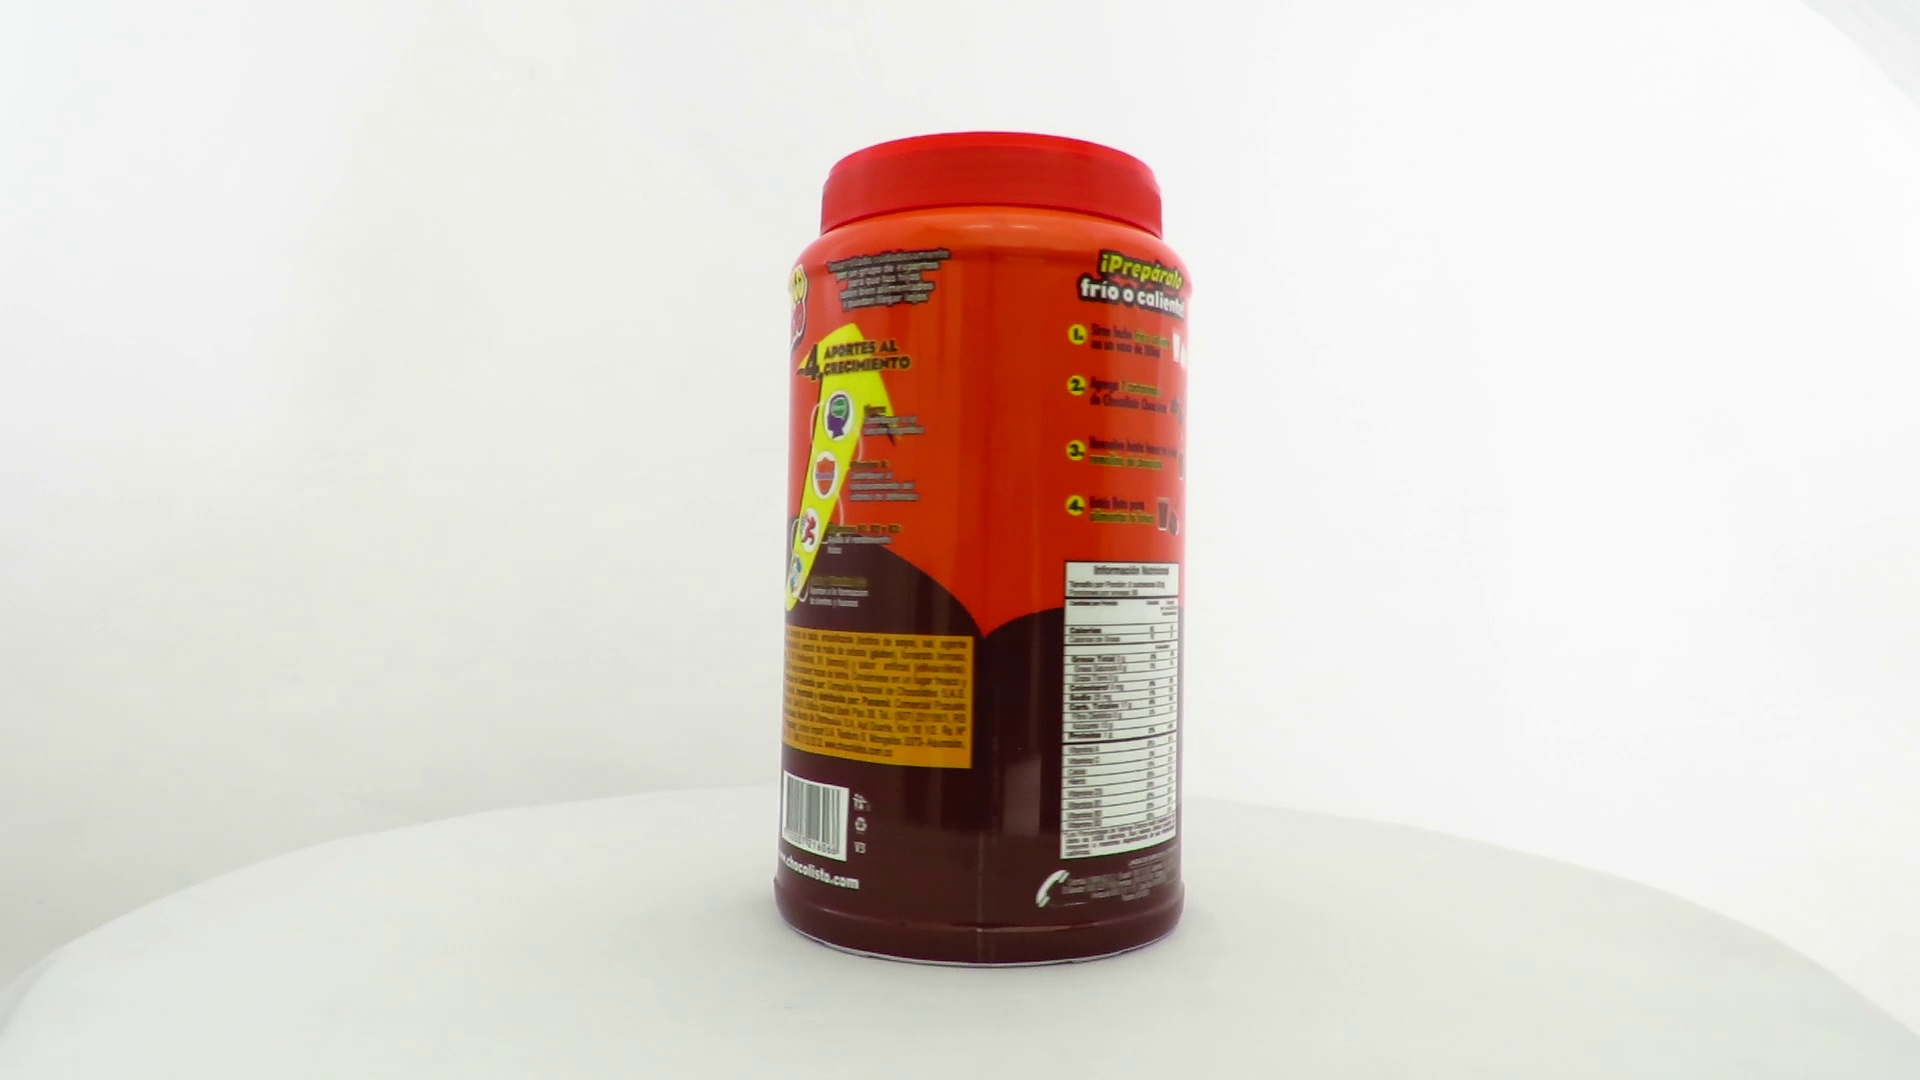COL0170103TRR00100: (767, 127, 1195, 975)
